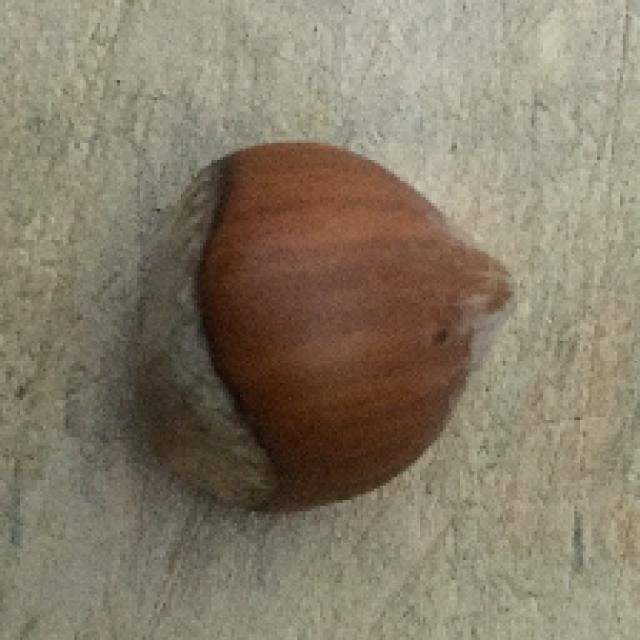qualityHazelnut: (138, 142, 517, 514)
